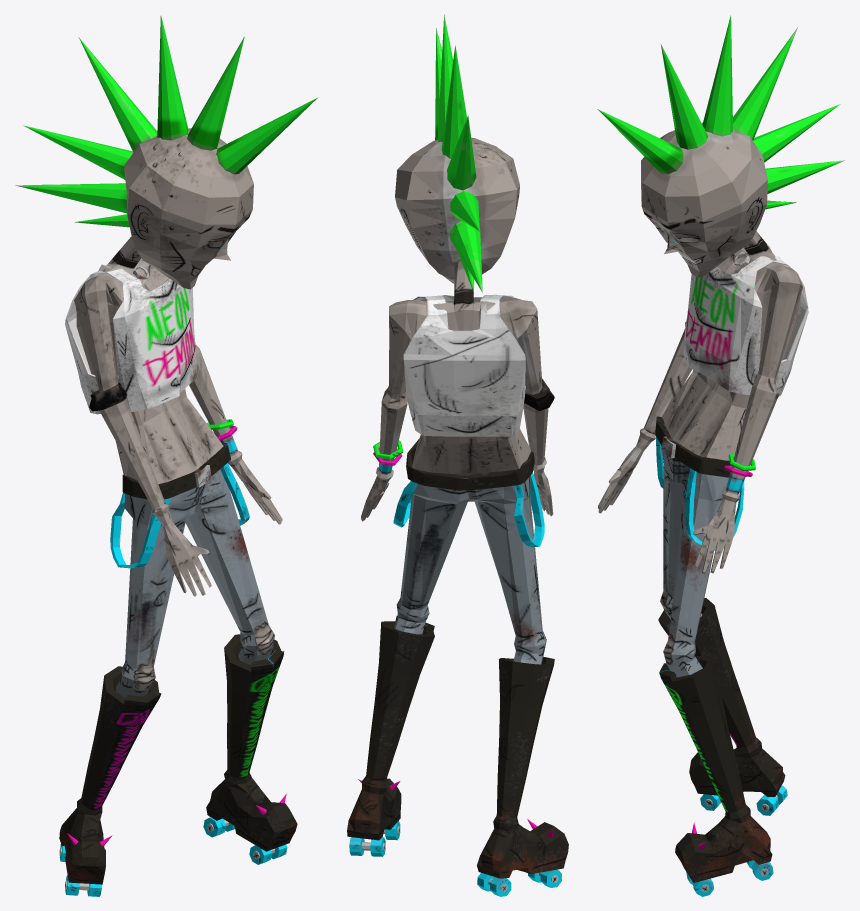
The model's file is punkAnimation_000014.obj.
3 renders of one model, left to right at view 1: azimuth 30°, elevation 25°; view 2: azimuth 150°, elevation 25°; view 3: azimuth 270°, elevation 25°, orthographic. The views are drawn at different scales.
Visible parts, largest first — view 1: Cube.004_Cube.003; view 2: Cube.004_Cube.003; view 3: Cube.004_Cube.003.
Boxes of the visible parts, bbox=[...] form: Cube.004_Cube.003: bbox=[15, 15, 318, 896]; Cube.004_Cube.003: bbox=[347, 14, 568, 896]; Cube.004_Cube.003: bbox=[597, 15, 844, 896].
Bounding box in the file's own units: 1.95 × 7.37 × 2.
